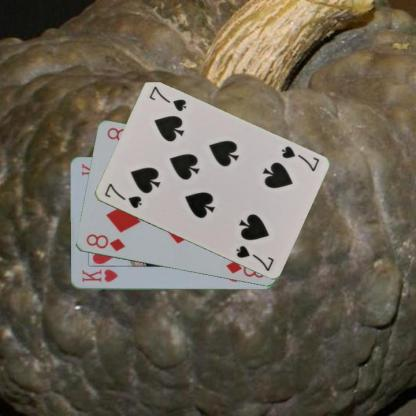7s: (101, 180, 143, 210), (279, 144, 320, 173)
8d: (83, 232, 126, 253)
Kh: (79, 266, 119, 284)
